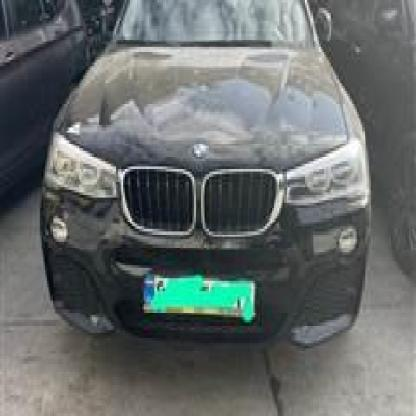Car: (33, 0, 367, 367), (310, 0, 416, 282), (0, 0, 113, 214)
